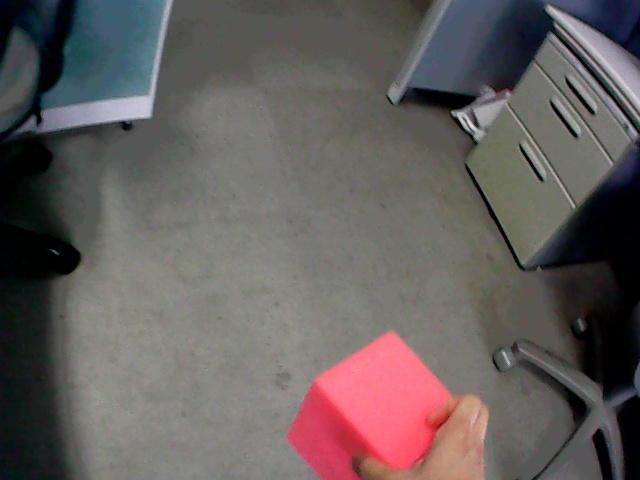red_block: (287, 332, 450, 479)
